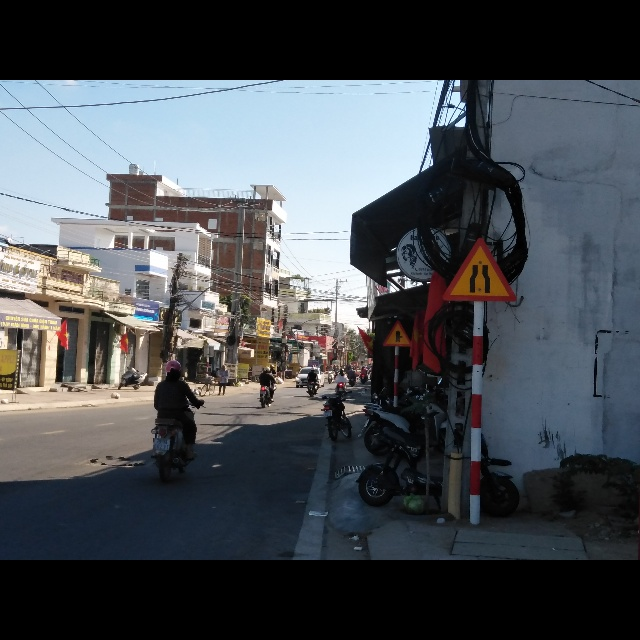Giao nhau với đường không ưu tiên: (384, 320, 414, 347)
Đường bị hẹp cả hai bên: (441, 236, 518, 301)
